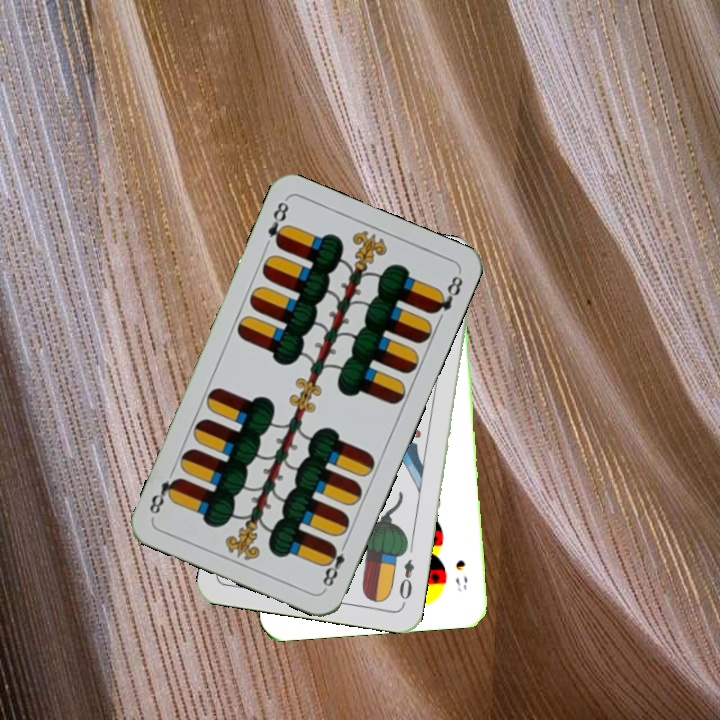E8: (318, 536, 350, 592), (263, 197, 292, 250)
EO: (395, 555, 417, 602)
S8: (451, 555, 471, 595)
